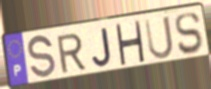H: (114, 20, 146, 66)
J: (91, 26, 114, 68)
R: (55, 31, 88, 76)
S: (26, 33, 57, 82), (173, 11, 204, 57)
U: (142, 14, 175, 62)
